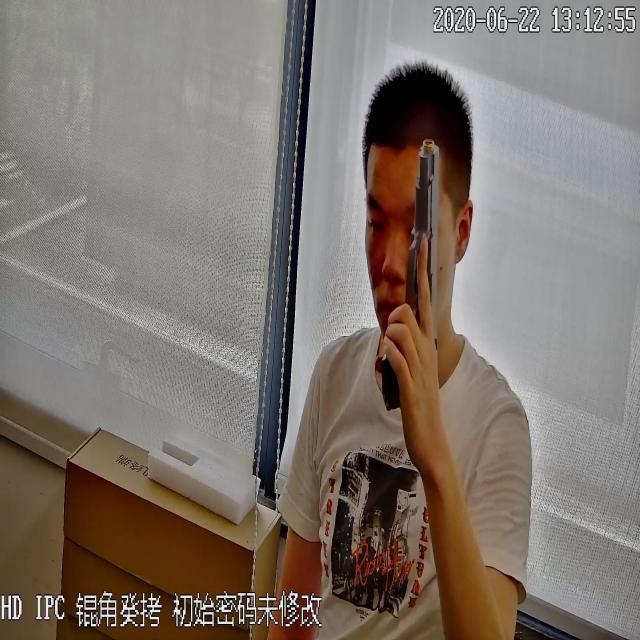gun-knife-thesis - v11 Yolov5 augmented: (379, 138, 442, 412)
